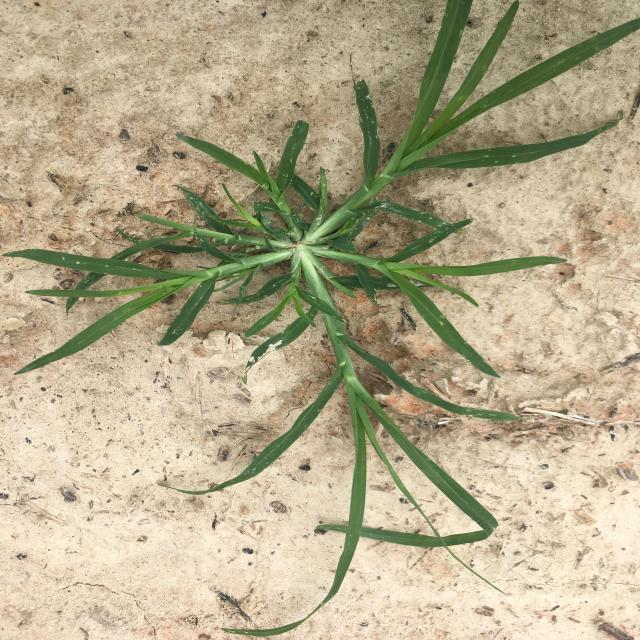Goosegrass: (4, 1, 640, 636)
